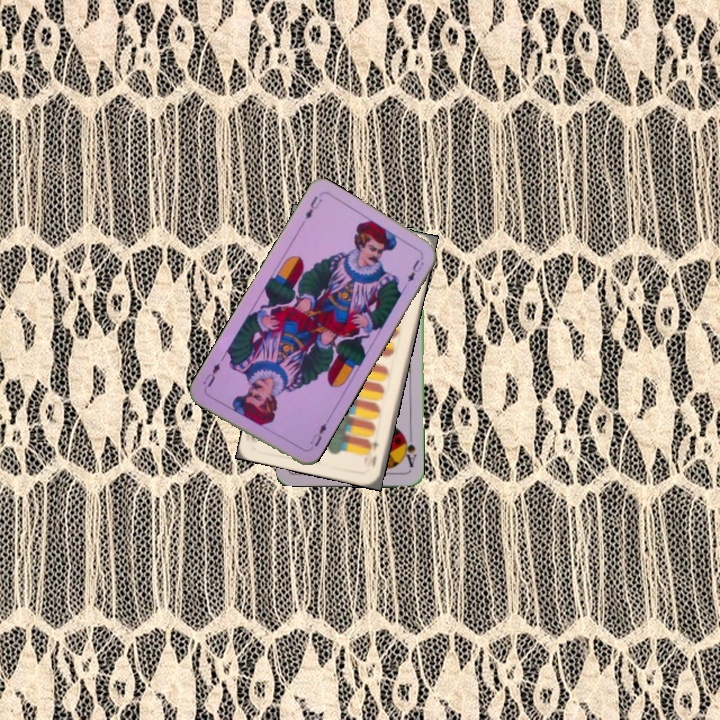E10: (363, 431, 382, 471)
EU: (304, 416, 331, 453), (301, 192, 325, 222)
SA: (400, 431, 419, 470)
